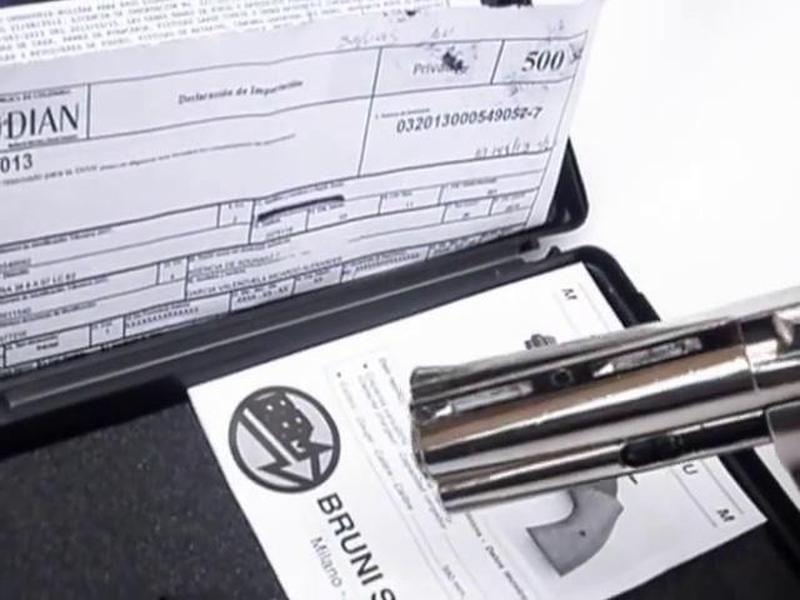Revolver: (365, 231, 800, 539)
